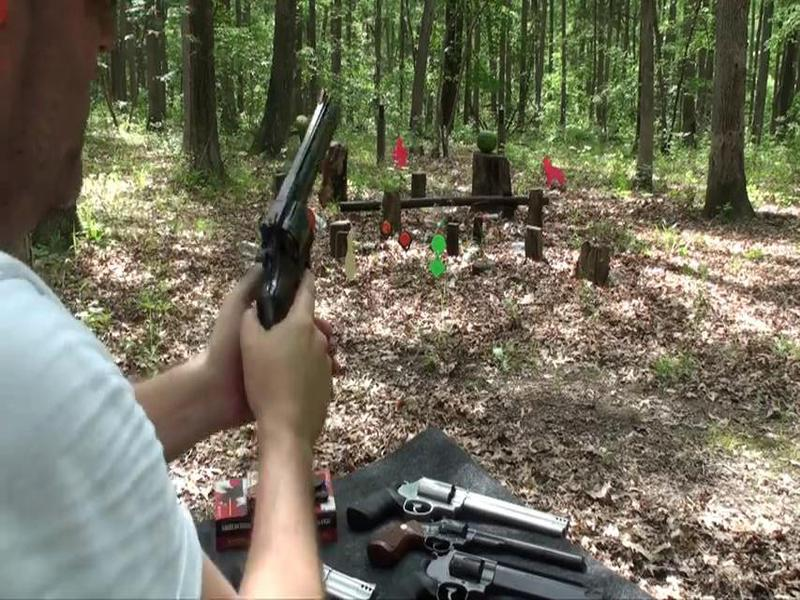Revolver: (235, 74, 355, 355)
